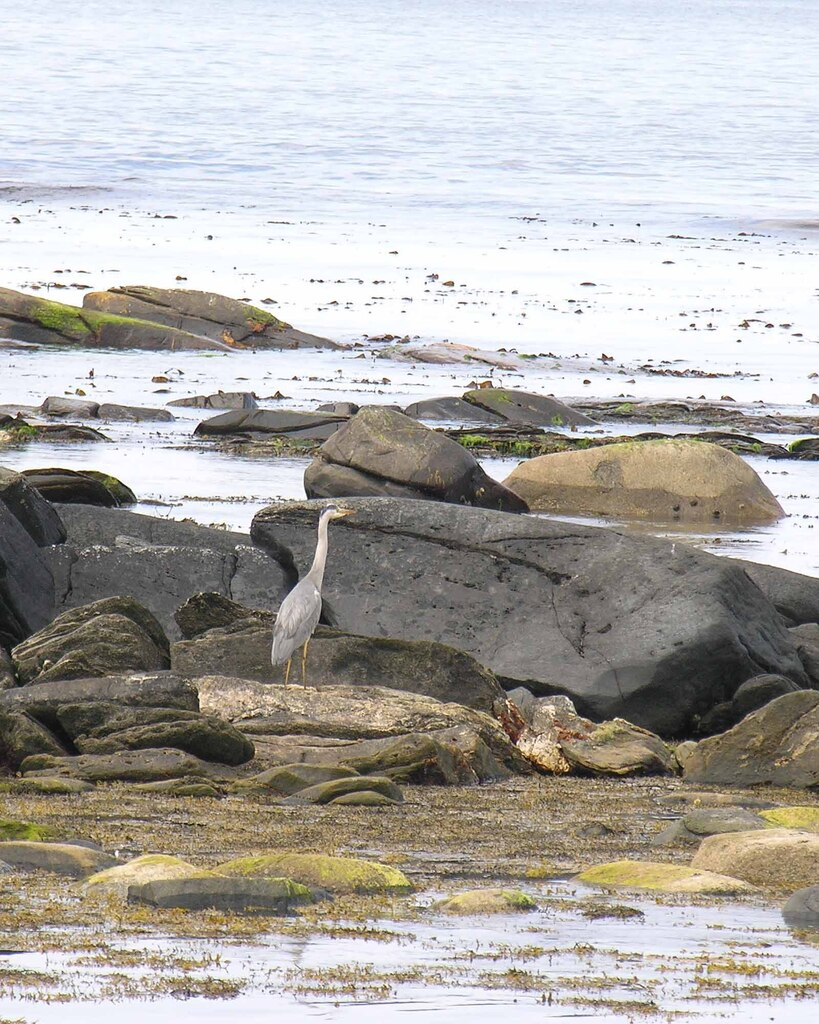heron: (265, 503, 361, 688)
